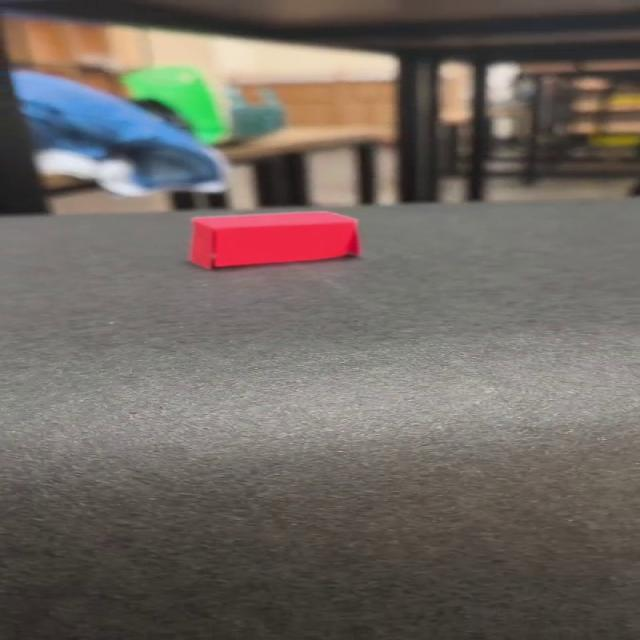red block: (188, 210, 361, 270)
